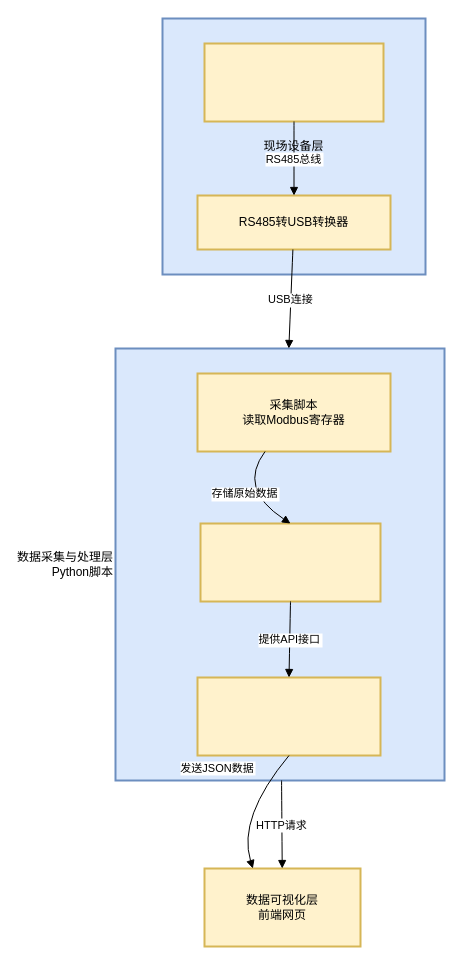
Some shapes in this 462 by 964 pixel diagram are drawn without their labels. The centre of each missing label's shape, as x and y in pixels:
"HTTP API服务 Flask" goes at pixel 288 716.
"智能电表 Modbus-RTU协议" goes at pixel 293 82.
"本地数据库 SQLite" goes at pixel 290 562.
